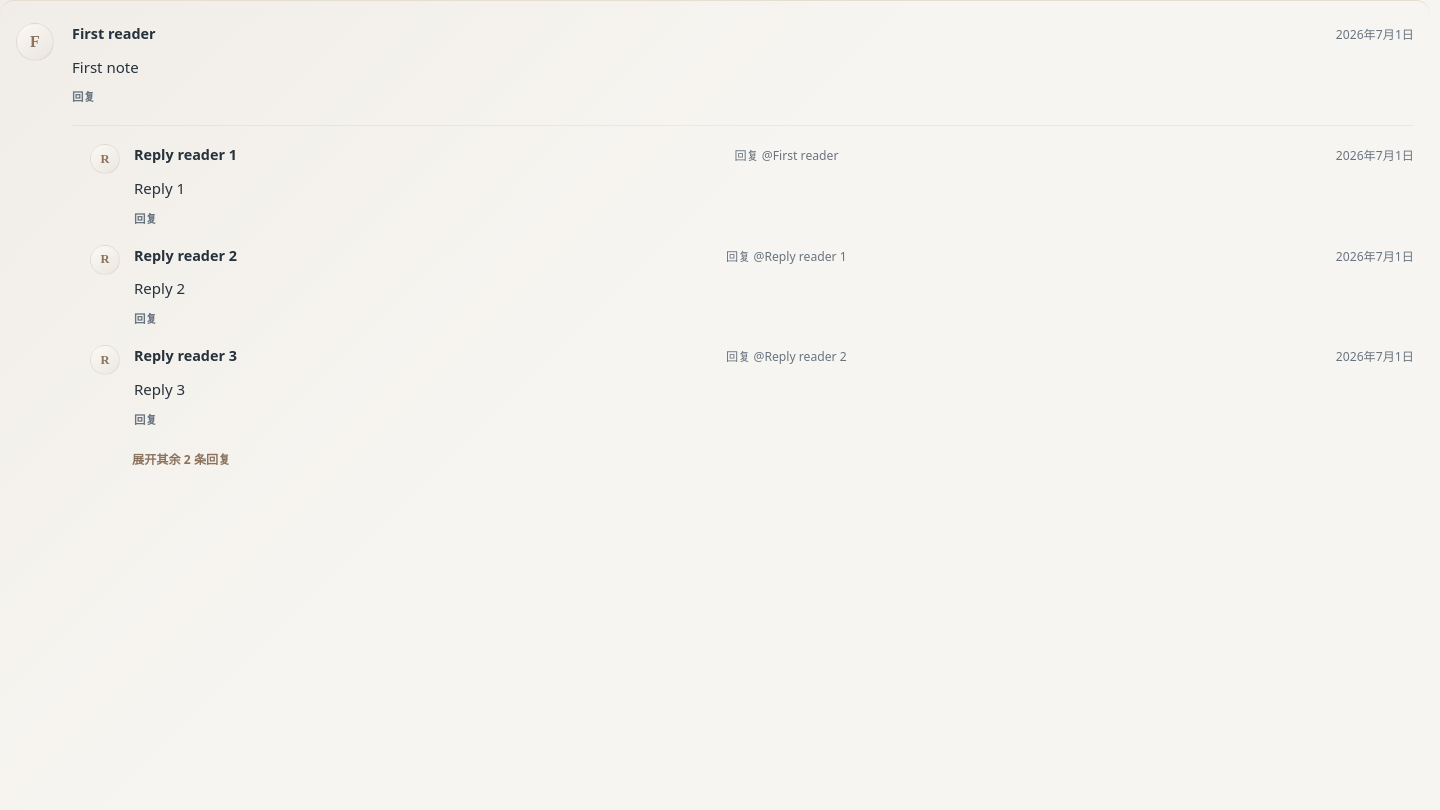
CommentList › identifies reply targets and collapses reply groups after the first three
Expected: the number of list items with class "comment-list__reply-item" is 3, [90,144,1414,229]; [90,245,1414,329]; [90,345,1414,430]
Click the button with class "comment-list__replies-toggle". click: coordinates (181, 460)
box: [132,451,230,469]
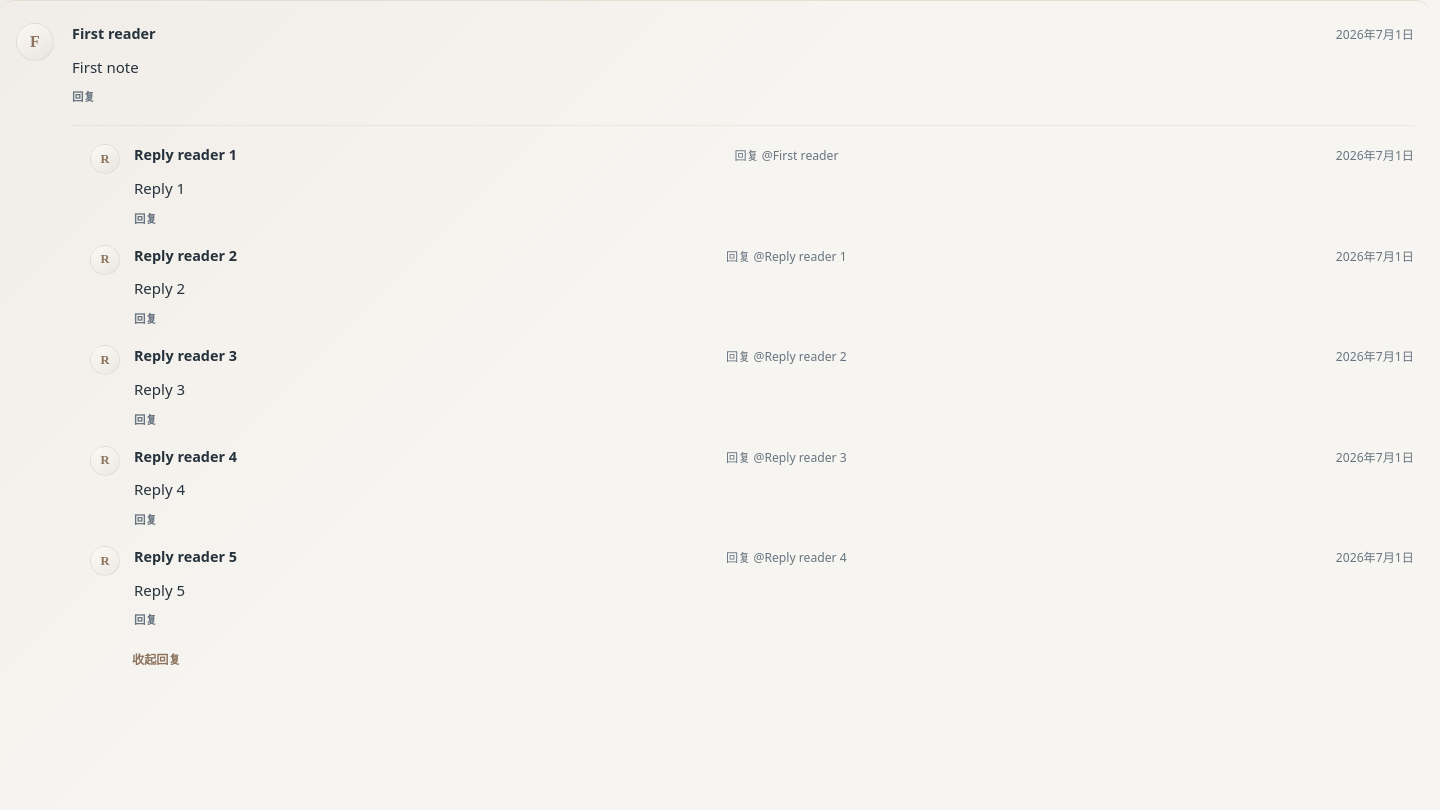
Expected: the number of list items with class "comment-list__reply-item" is 5, [90,144,1414,229]; [90,245,1414,329]; [90,345,1414,430]; [90,446,1414,530]; [90,546,1414,630]
Expected: the button with class "comment-list__replies-toggle" is expanded, [132,651,181,670]
